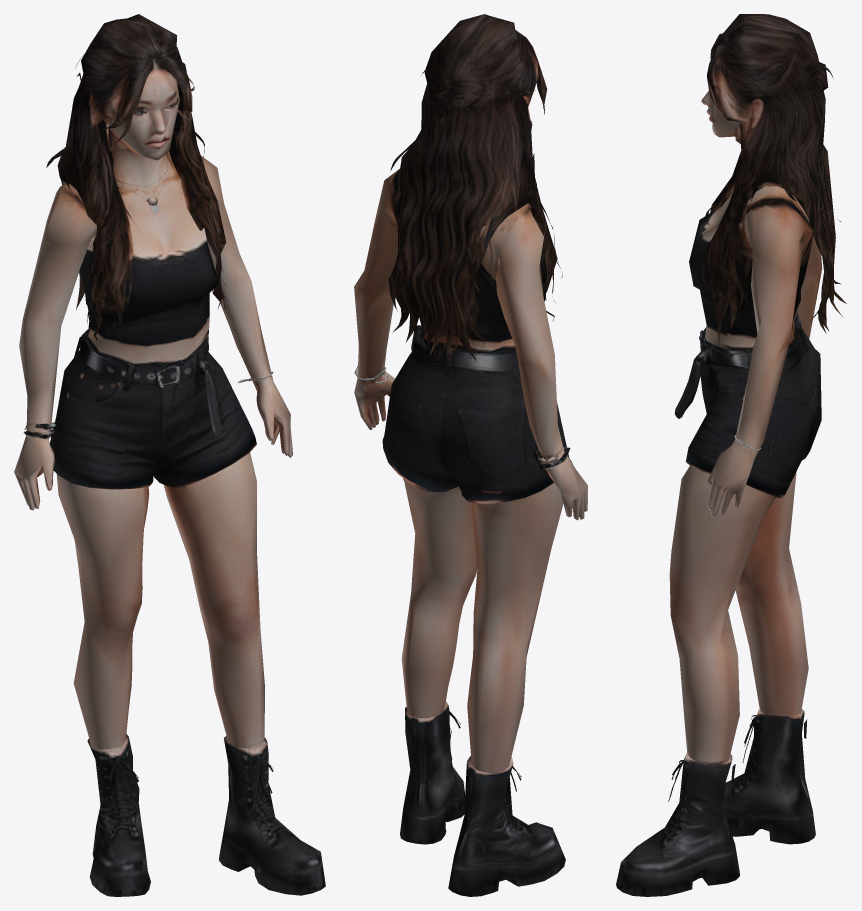
Rendered from Female_Fan_05_LOD2_Static_idle_512.glb.
3 views of the same model, side by side, from view 1: azimuth 30°, elevation 25°; view 2: azimuth 150°, elevation 25°; view 3: azimuth 270°, elevation 25° (orthographic). The views are drawn at different scales.
Parts seen in each view (by area): view 1: female_fan_05_static_idle_uvfixed; view 2: female_fan_05_static_idle_uvfixed; view 3: female_fan_05_static_idle_uvfixed.
Part boxes in pixels (x1=…): female_fan_05_static_idle_uvfixed: x1=14, y1=14, x2=325, y2=896; female_fan_05_static_idle_uvfixed: x1=354, y1=14, x2=587, y2=896; female_fan_05_static_idle_uvfixed: x1=616, y1=14, x2=846, y2=896.
Size of the model in its own units: 0.3041 by 0.9966 by 0.2554.
Materials: 1 (1 with a texture image).
